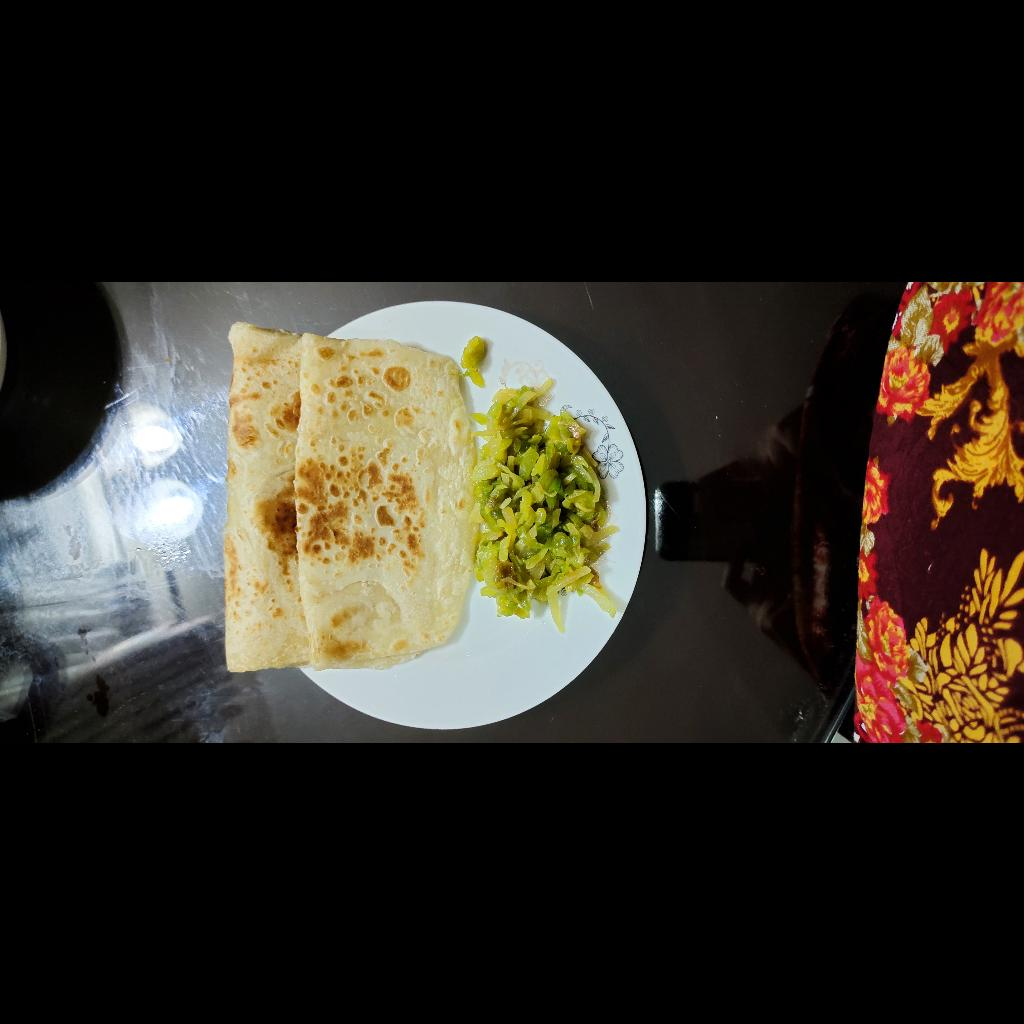chichinga-vaji: (358, 739, 415, 764)
ruti: (72, 505, 420, 752)
vegetable: (113, 752, 360, 908)
